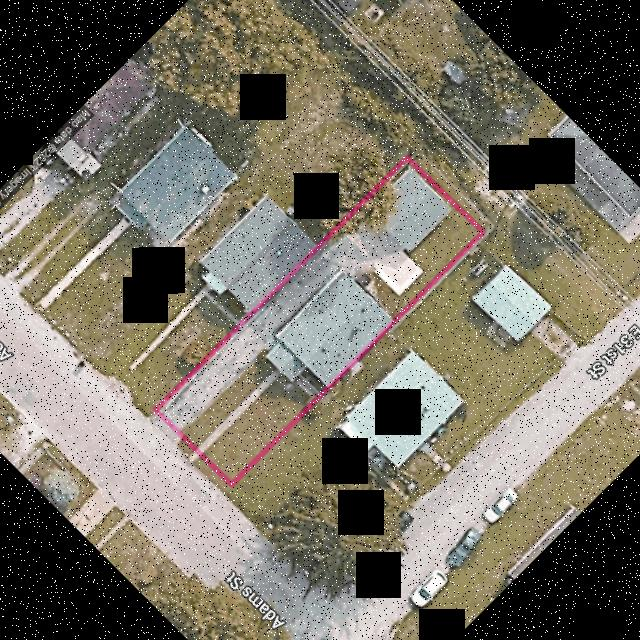Driveway: (159, 209, 423, 432)
Extra Driveway: (146, 413, 181, 447)
Extra Lawn: (193, 455, 232, 494), (177, 438, 194, 457), (145, 409, 155, 417)
Extra Sidewalk: (187, 450, 200, 463)
House: (264, 270, 391, 384)
Other: (386, 168, 449, 250), (357, 273, 380, 303)
Sidewalk: (198, 368, 281, 452), (294, 373, 319, 397)
